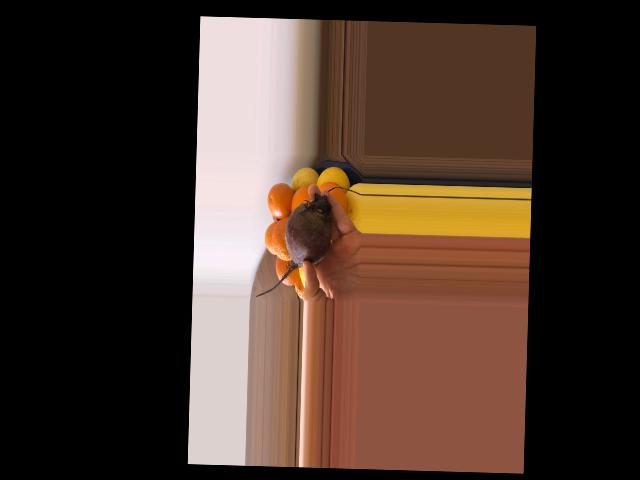beet: (256, 193, 332, 298)
